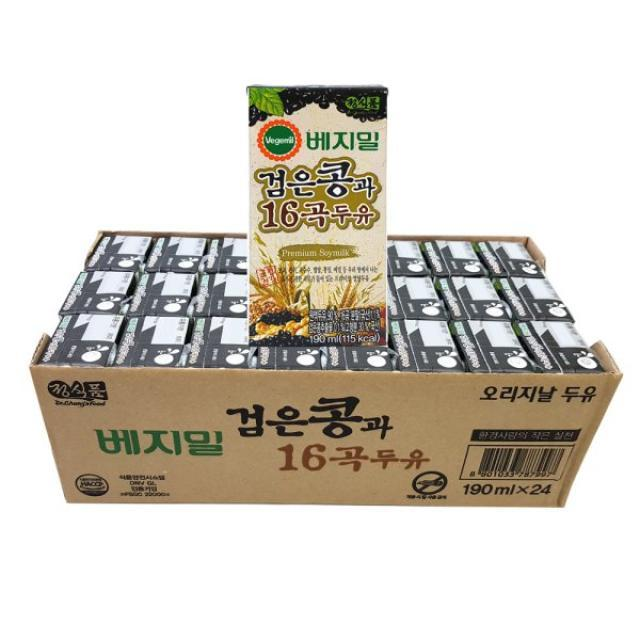Tetra: (248, 79, 390, 343)
